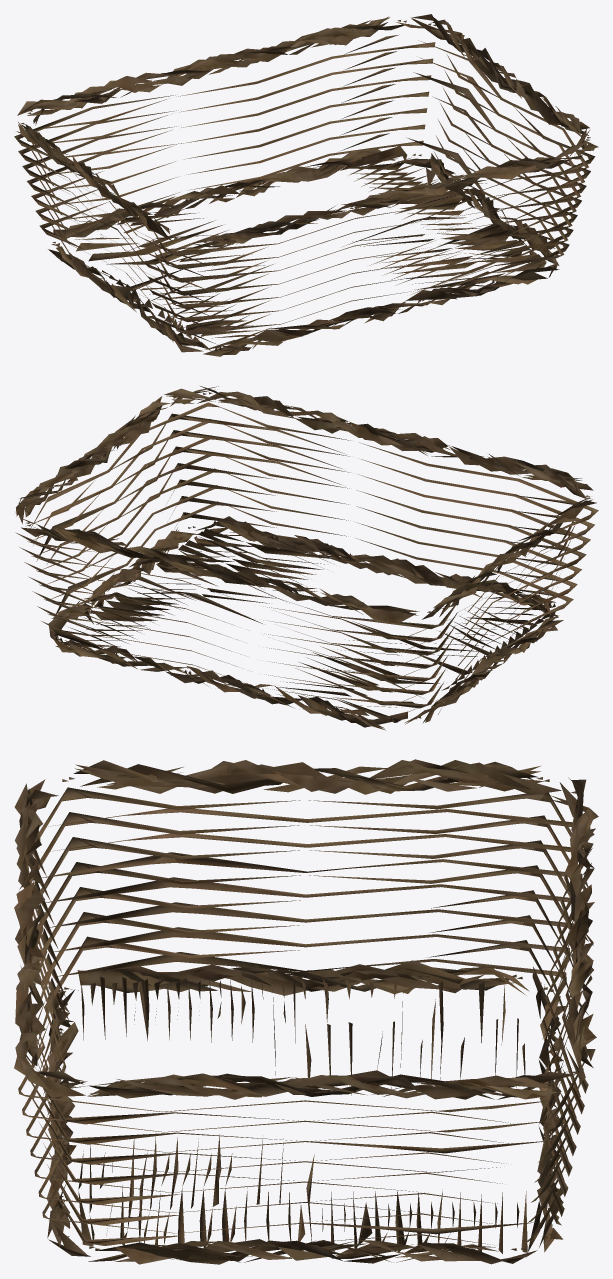
File: wicker_basket_01.glb
The picture shows the model from 3 angles, top to bottom: view 1: azimuth 30°, elevation 25°; view 2: azimuth 150°, elevation 25°; view 3: azimuth 270°, elevation 25°; orthographic projection. The views are drawn at different scales.
Parts seen in each view (by area): view 1: wicker_basket_01; view 2: wicker_basket_01; view 3: wicker_basket_01.
Boxes of the visible parts, x1=… form: wicker_basket_01: x1=14, y1=14, x2=598, y2=356; wicker_basket_01: x1=15, y1=386, x2=598, y2=730; wicker_basket_01: x1=14, y1=759, x2=598, y2=1264.
Size of the model in its own units: 0.383 by 0.1185 by 0.2931.
Materials: 1 (1 with a texture image).
